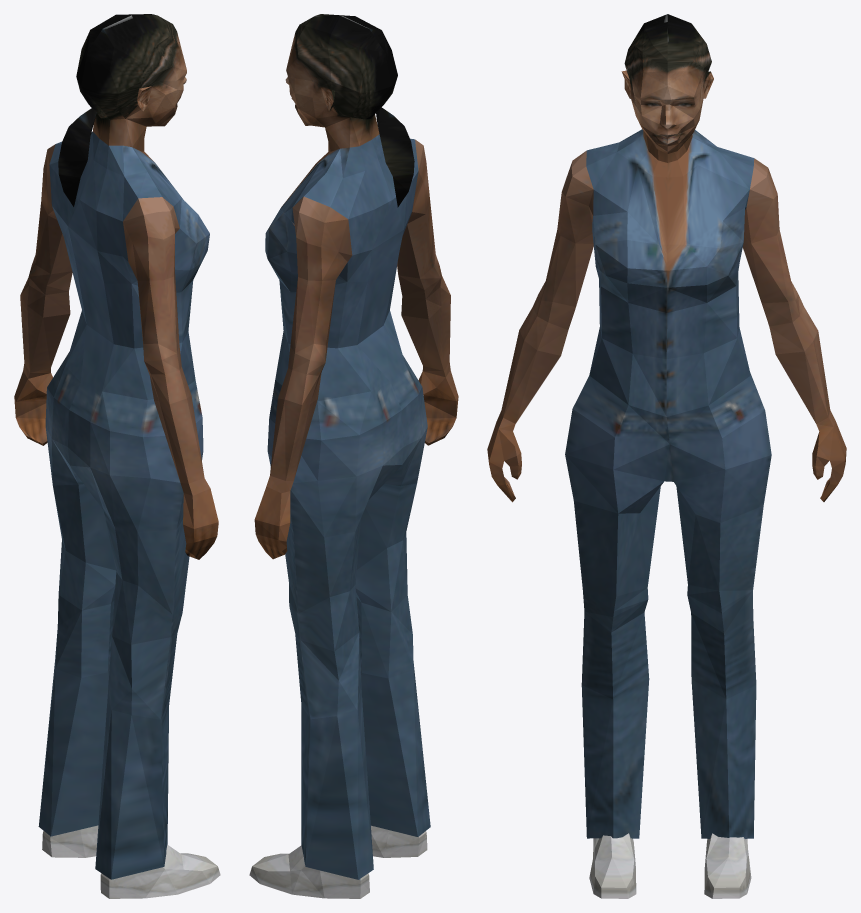
Rendered from sbfyst.obj.
The picture shows the model from 3 angles, left to right: view 1: azimuth 30°, elevation 25°; view 2: azimuth 150°, elevation 25°; view 3: azimuth 270°, elevation 25°; orthographic projection.
Parts seen in each view (by area): view 1: _Pelvis; view 2: _Pelvis; view 3: _Pelvis.
Part boxes in pixels (x1,y1,x2,y2): _Pelvis: (14, 14, 220, 898); _Pelvis: (249, 14, 458, 898); _Pelvis: (487, 14, 846, 898).
Size of the model in its own units: 0.2999 by 1.8 by 0.6856.
1 material, 1 textured.
